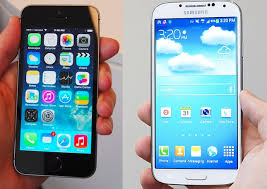iphone: (11, 1, 99, 180)
iphone5: (12, 1, 100, 180)
samsung: (144, 1, 243, 187)
